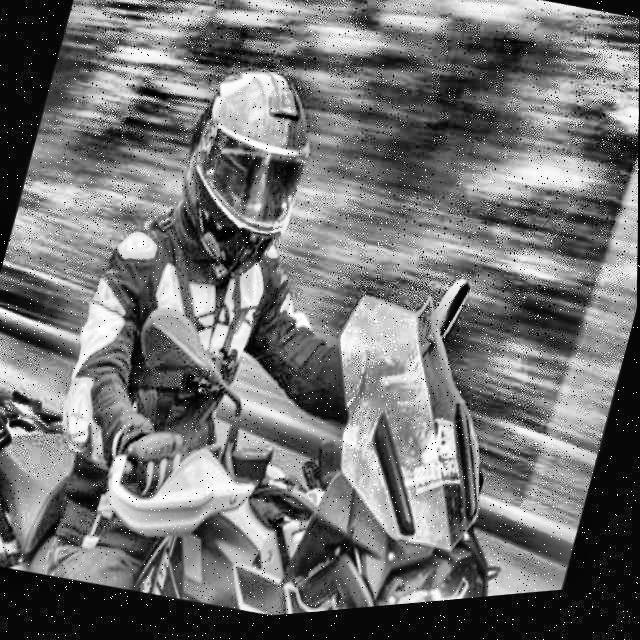Helmet: (153, 49, 334, 308)
